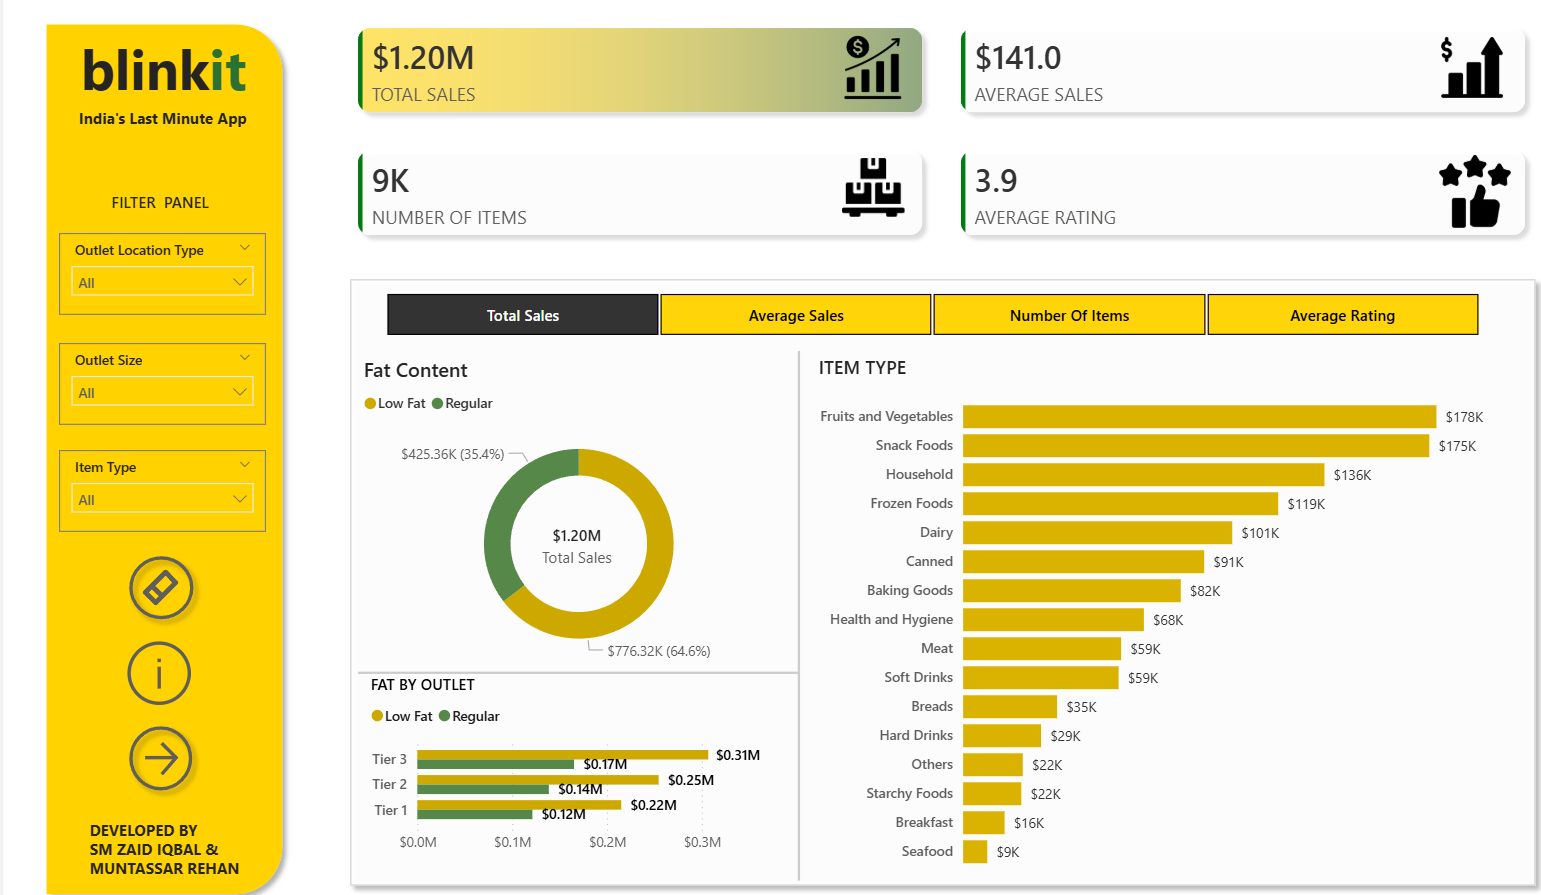

What the dashboard file says about the page in this screenshot:
{"tool":"powerbi","page":{"name":"Blinkit dashboard","canvas":[1400,800],"ordinal":0},"visuals":[{"type":"shape","box":[28.7,17,225.5,783],"z":0},{"type":"textbox","box":[22.3,26.6,238.3,100],"z":1000},{"type":"textbox","box":[35,94,211,27],"z":2000},{"type":"cardVisual","fields":{"Data":["BlinkIT Grocery Data.Total Sales","BlinkIT Grocery Data.Average Sales","BlinkIT Grocery Data.Number Of Items","BlinkIT Grocery Data.Average Rating"]},"box":[283,0,1084,241.5],"z":3000},{"type":"image","box":[729.8,35.1,70.2,57.4],"z":4000},{"type":"image","box":[1261.7,35.1,59.6,57.4],"z":5000},{"type":"image","box":[1261.7,140.4,64.9,63.8],"z":6000},{"type":"image","box":[737.2,140.4,55.3,56.4],"z":7000},{"type":"shape","box":[296.7,241.1,1060,551.1],"z":8000},{"type":"donutChart","title":"Fat Content","fields":{"Y":["BlinkIT Grocery Data.Total Sales"],"Category":["BlinkIT Grocery Data.Item Fat Content"]},"box":[311.8,316.4,388.2,280.9],"z":9000},{"type":"slicer","fields":{"Values":["Metrics.Metrics"]},"box":[312.2,255.6,1008.9,50],"z":10000},{"type":"cardVisual","fields":{"Data":["BlinkIT Grocery Data.Total Sales"]},"box":[443.3,443.3,123.3,82.2],"z":11000},{"type":"clusteredBarChart","title":"FAT BY OUTLET","fields":{"Y":["BlinkIT Grocery Data.Total Sales"],"Series":["BlinkIT Grocery Data.Item Fat Content"],"Category":["BlinkIT Grocery Data.Outlet Location Type"]},"box":[318.2,597.3,369.1,166.4],"z":12000},{"type":"shape","box":[687.8,313.3,24.4,465.6],"z":13000},{"type":"shape","box":[311.8,588.2,388.2,15.5],"z":14000},{"type":"barChart","title":"ITEM TYPE","fields":{"Y":["BlinkIT Grocery Data.Total Sales"],"Category":["BlinkIT Grocery Data.Item Type"]},"box":[712.2,316.7,608.9,462.2],"z":15000},{"type":"slicer","fields":{"Values":["BlinkIT Grocery Data.Outlet Location Type"]},"box":[49,209,182,72],"z":16000},{"type":"slicer","fields":{"Values":["BlinkIT Grocery Data.Outlet Size"]},"box":[49,306,182,72],"z":17000},{"type":"slicer","fields":{"Values":["BlinkIT Grocery Data.Item Type"]},"box":[49,400,182,72],"z":18000},{"type":"textbox","box":[85.1,168.1,109.6,28.7],"z":19000},{"type":"actionButton","box":[102.1,484,74.5,73.4],"z":20000},{"type":"actionButton","box":[102.1,634,73.4,74.5],"z":21000},{"type":"textbox","box":[71.3,720.2,183,72.3],"z":22000},{"type":"actionButton","box":[102.3,560.9,79.1,70.7],"z":23000}]}

Visuals, with their boxes in screenshot pixels (x1, y1, x2, y2), scaled from the page's 1400x800 canvas onto the 1541x895 screenshot:
shape: (left=32, top=19, right=280, bottom=894)
textbox: (left=25, top=30, right=287, bottom=142)
textbox: (left=39, top=105, right=271, bottom=135)
cardVisual - BlinkIT Grocery Data.Total Sales x BlinkIT Grocery Data.Average Sales: (left=312, top=0, right=1505, bottom=270)
image: (left=803, top=39, right=881, bottom=103)
image: (left=1389, top=39, right=1454, bottom=103)
image: (left=1389, top=157, right=1460, bottom=228)
image: (left=811, top=157, right=872, bottom=220)
shape: (left=327, top=270, right=1493, bottom=886)
"Fat Content" donutChart: (left=343, top=354, right=770, bottom=668)
slicer - Metrics.Metrics: (left=344, top=286, right=1454, bottom=342)
cardVisual - BlinkIT Grocery Data.Total Sales: (left=488, top=496, right=624, bottom=588)
"FAT BY OUTLET" clusteredBarChart: (left=350, top=668, right=757, bottom=854)
shape: (left=757, top=351, right=784, bottom=871)
shape: (left=343, top=658, right=770, bottom=675)
"ITEM TYPE" barChart: (left=784, top=354, right=1454, bottom=871)
slicer - BlinkIT Grocery Data.Outlet Location Type: (left=54, top=234, right=254, bottom=314)
slicer - BlinkIT Grocery Data.Outlet Size: (left=54, top=342, right=254, bottom=423)
slicer - BlinkIT Grocery Data.Item Type: (left=54, top=447, right=254, bottom=528)
textbox: (left=94, top=188, right=214, bottom=220)
actionButton: (left=112, top=541, right=194, bottom=624)
actionButton: (left=112, top=709, right=193, bottom=793)
textbox: (left=78, top=806, right=280, bottom=887)
actionButton: (left=113, top=628, right=200, bottom=707)
